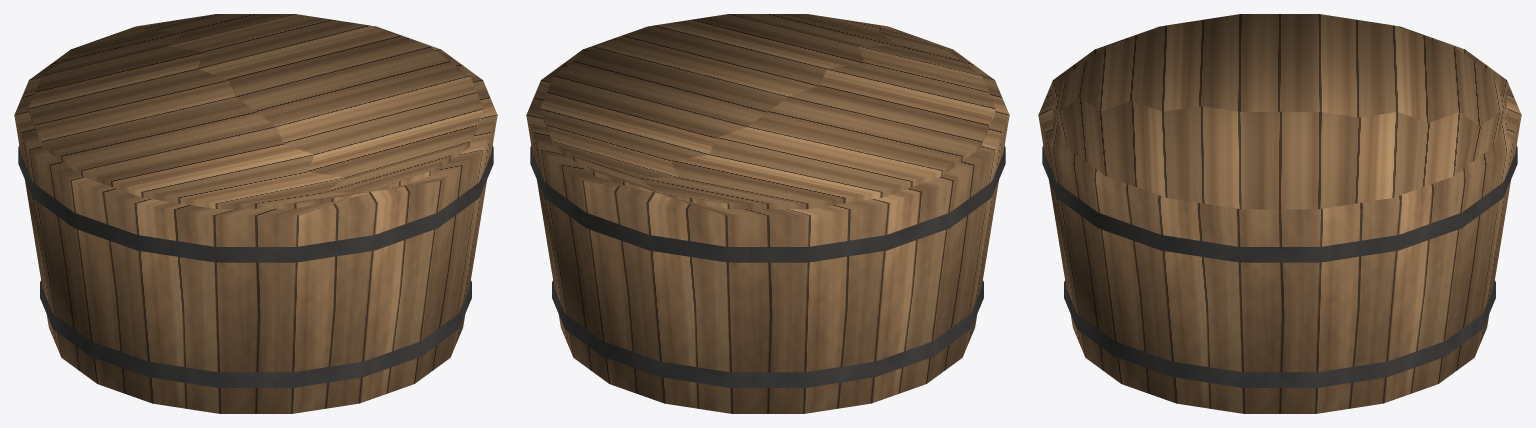
Rendered from Tub_Wood_1.gltf.
3 views of the same model, side by side, from view 1: azimuth 30°, elevation 25°; view 2: azimuth 150°, elevation 25°; view 3: azimuth 270°, elevation 25° (orthographic).
Visible parts, largest first — view 1: Tub_Wood_1; view 2: Tub_Wood_1; view 3: Tub_Wood_1.
Boxes of the visible parts, <box> form: Tub_Wood_1: <box>14,14,497,413</box>; Tub_Wood_1: <box>526,14,1009,413</box>; Tub_Wood_1: <box>1038,14,1521,413</box>.
Bounding box in the file's own units: 1.38 × 0.7 × 1.4.
Materials: 2 (2 with a texture image).
